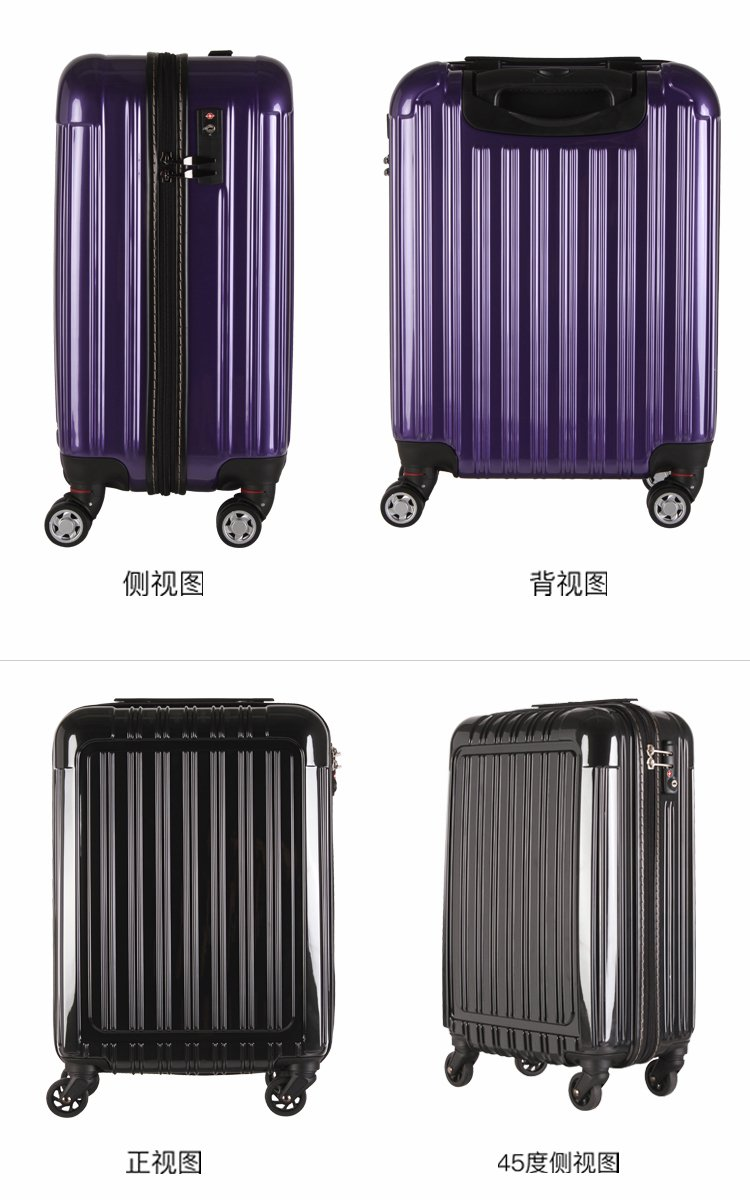luggage: (379, 53, 723, 531), (43, 40, 297, 549), (46, 695, 342, 1119), (439, 698, 699, 1111)
